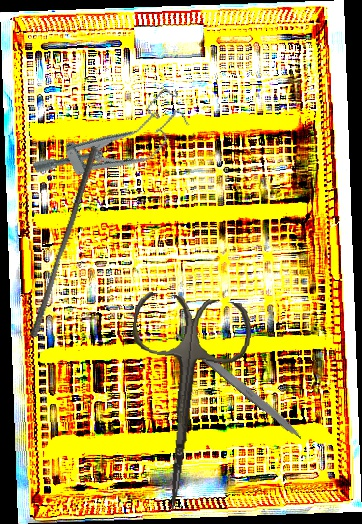Iris Scissors: (111, 290, 255, 517)
Pusher: (29, 143, 99, 340)
Scalpel Handle: (173, 327, 306, 442)
Speculum: (27, 84, 198, 205)
